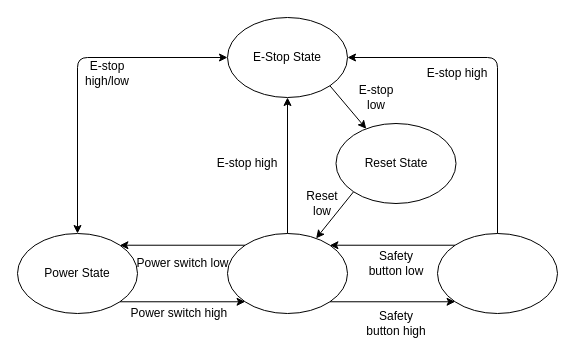
The diagram is 575 pixels wide and 355 high, and some of its shapes have lost their labels. The shapes that lost their labels are listed below. From the top down, each one's centre as x and y in pixels, then its label:
(287,273): Standby State
(497,273): Running State
